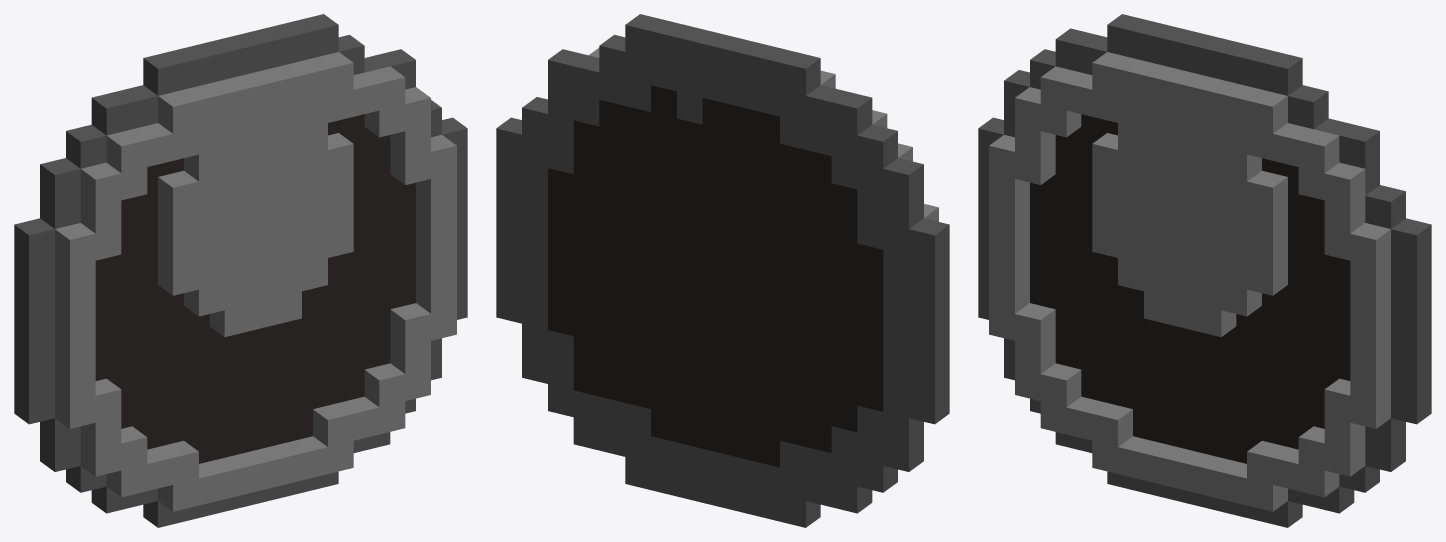
Rendered from energy-dark.obj.
3 views of the same model, side by side, from view 1: azimuth 30°, elevation 25°; view 2: azimuth 150°, elevation 25°; view 3: azimuth 330°, elevation 25° (orthographic).
Size of the model in its own units: 1.7 by 1.7 by 0.2.
